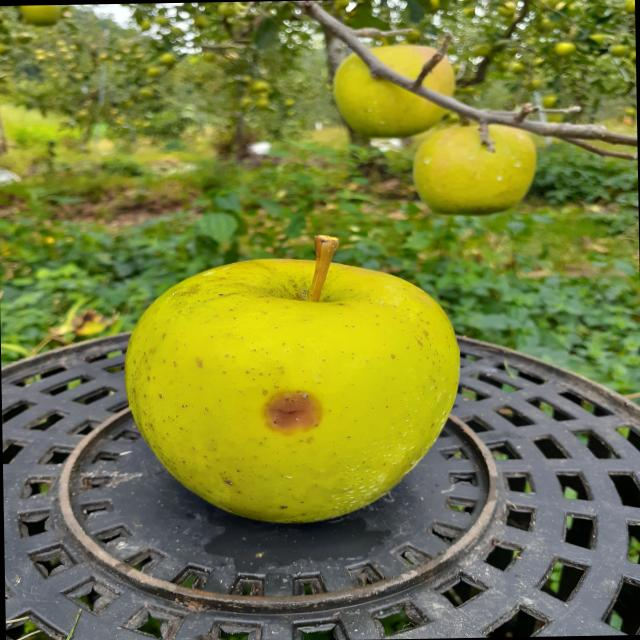rotten: (117, 252, 479, 539)
